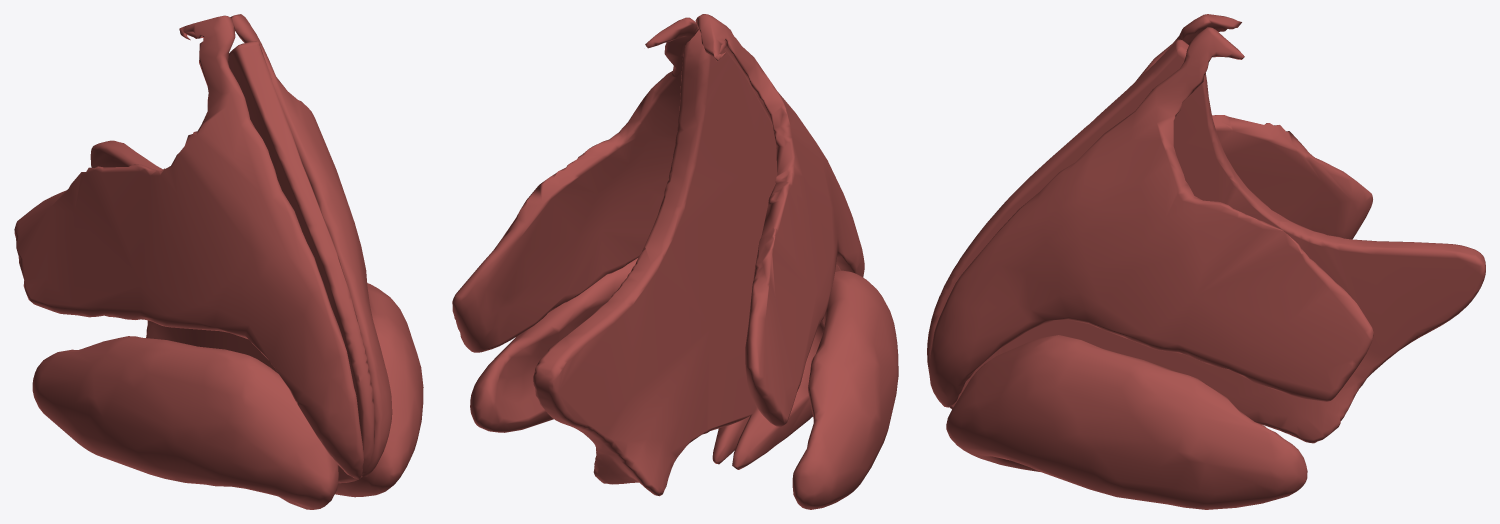
The model's file is FMA71704.glb.
3 renders of one model, left to right at view 1: azimuth 30°, elevation 25°; view 2: azimuth 150°, elevation 25°; view 3: azimuth 270°, elevation 25°, orthographic. The views are drawn at different scales.
Parts seen in each view (by area): view 1: FMA71704; view 2: FMA71704; view 3: FMA71704.
Part boxes in pixels (left/top/right/bottom): FMA71704: left=14, top=14, right=423, bottom=509; FMA71704: left=452, top=14, right=898, bottom=509; FMA71704: left=927, top=14, right=1485, bottom=509.
Size of the model in its own units: 0.0288 by 0.0366 by 0.041.
